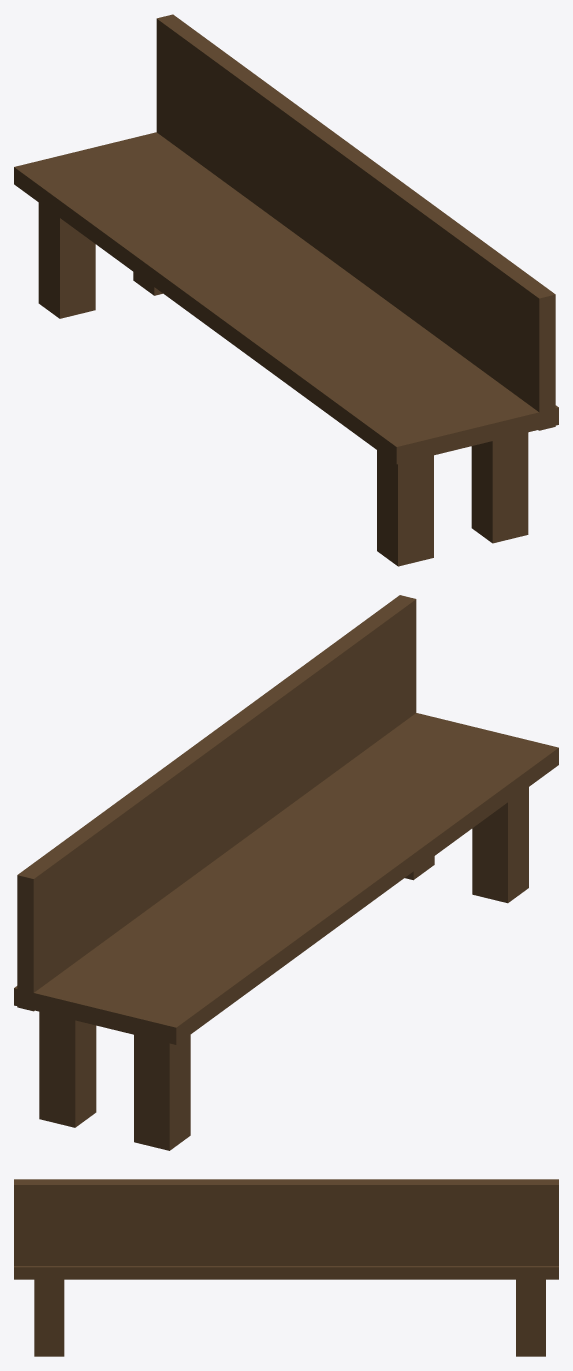
File: Bench.FBX
3 views of the same model, one above another, from view 1: azimuth 30°, elevation 25°; view 2: azimuth 150°, elevation 25°; view 3: azimuth 270°, elevation 25° (orthographic). The views are drawn at different scales.
Parts seen in each view (by area): view 1: Bench; view 2: Bench; view 3: Bench.
Part boxes in pixels (left/top/right/bottom): Bench: left=14, top=14, right=558, bottom=566; Bench: left=14, top=595, right=558, bottom=1150; Bench: left=14, top=1179, right=558, bottom=1356.
Bounding box in the file's own units: 28.99 × 42.23 × 118.
